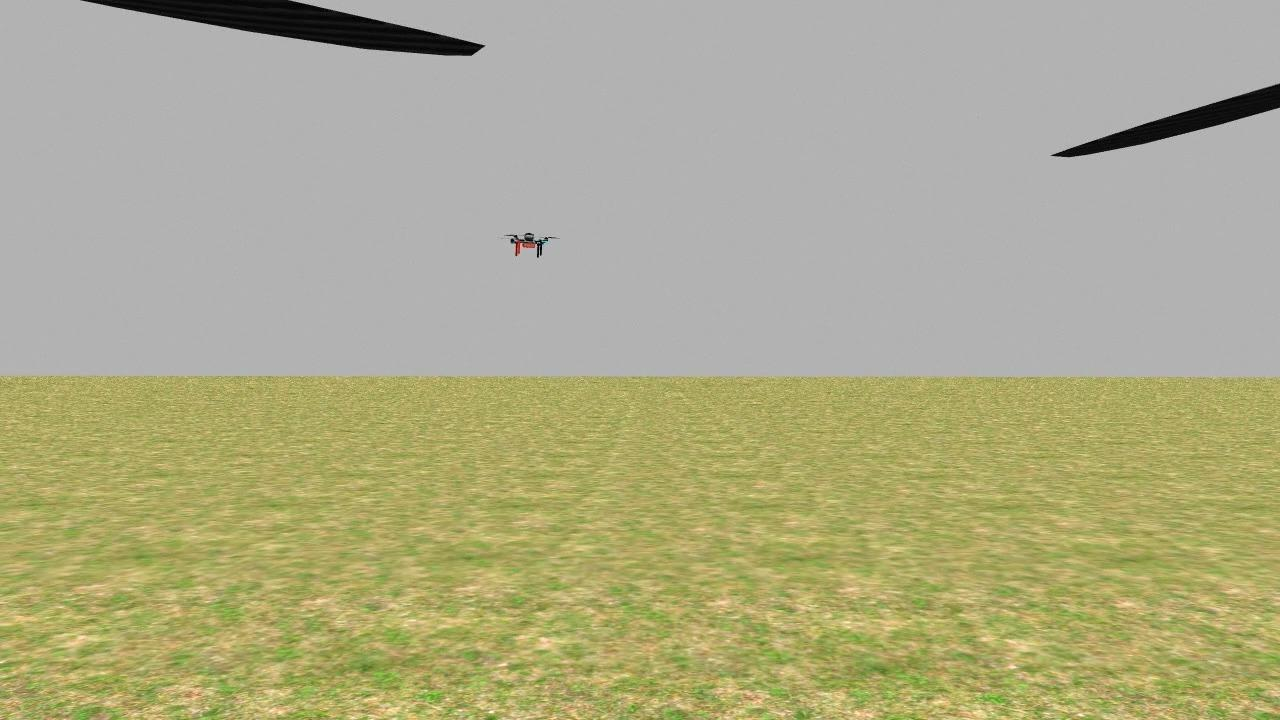UAV: (490, 222, 566, 272)
